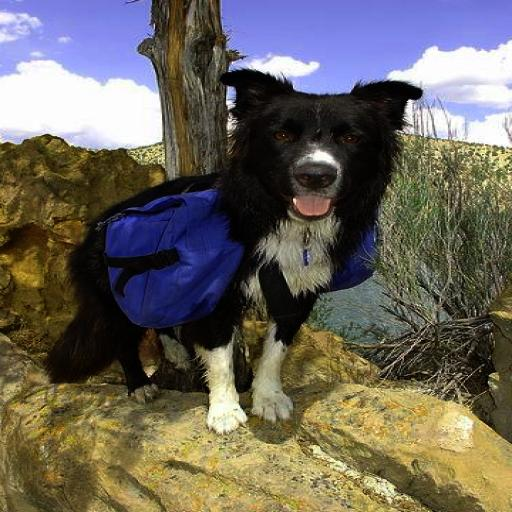dog_face: (216, 65, 434, 226)
